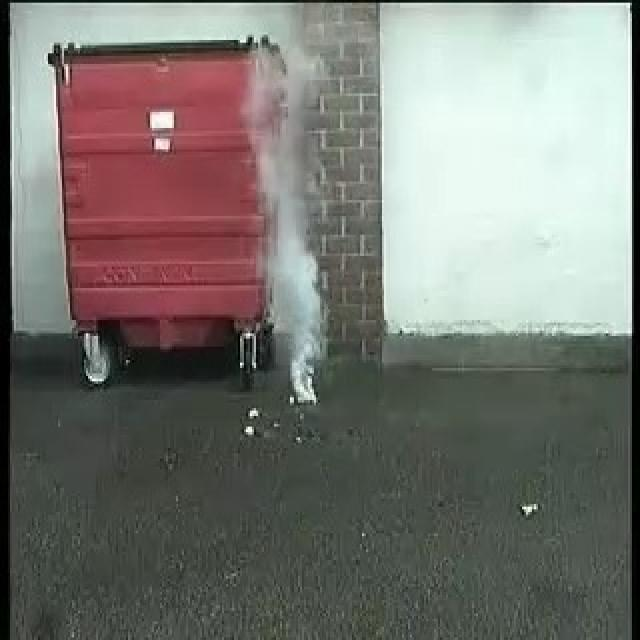smoke: (259, 167, 336, 404)
